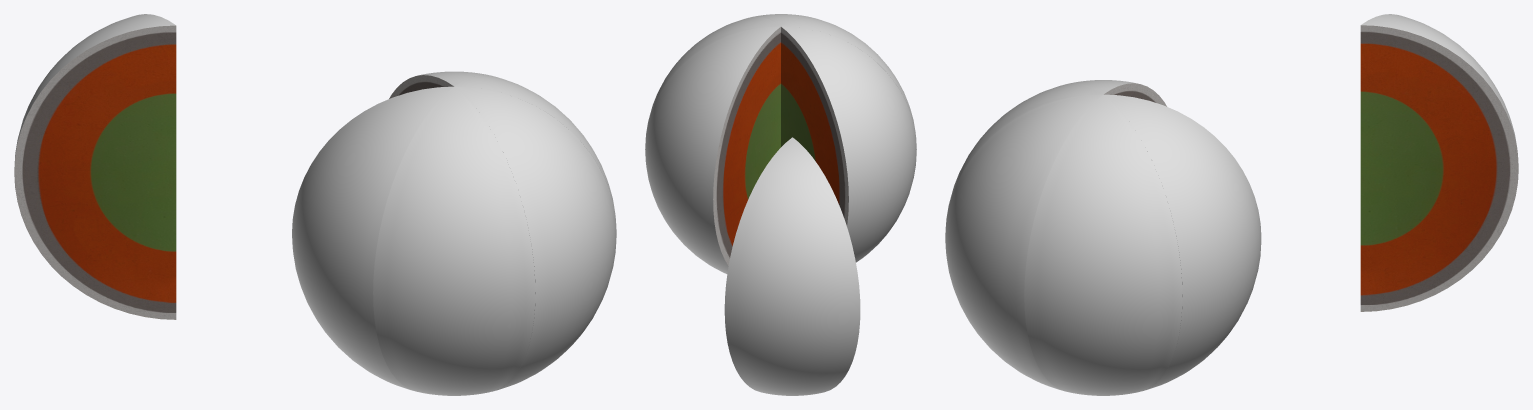
Rendered from HearingBook_r7d.gltf.
3 views of the same model, side by side, from view 1: azimuth 30°, elevation 25°; view 2: azimuth 150°, elevation 25°; view 3: azimuth 270°, elevation 25° (orthographic). The views are drawn at different scales.
Parts seen in each view (by area): view 1: Slice 3, Slice 1-Hearing, Slice 2-Shiny Shell, Slice 4, Slice 5, Slice 1-Shiny Shell, Slice 6-Hearing; view 2: Slice 1-Shiny Shell, Slice 6-Shiny Shell, Slice 2-Shiny Shell, Slice 6-Hearing, Slice 2-Hearing, Slice 3, Slice 5, Slice 4; view 3: Slice 5, Slice 1-Hearing, Slice 4, Slice 6-Shiny Shell, Slice 3, Slice 1-Shiny Shell, Slice 2-Hearing.
Part boxes in pixels (box(x1,y1,x2,y2)): Slice 3: box(373, 86, 535, 395); Slice 1-Hearing: box(14, 25, 176, 319); Slice 2-Shiny Shell: box(292, 86, 453, 390); Slice 4: box(455, 86, 616, 390); Slice 5: box(454, 75, 616, 243); Slice 1-Shiny Shell: box(14, 14, 175, 167); Slice 6-Hearing: box(389, 75, 453, 98); Slice 1-Shiny Shell: box(724, 137, 860, 395); Slice 6-Shiny Shell: box(645, 26, 780, 273); Slice 2-Shiny Shell: box(781, 26, 916, 262); Slice 6-Hearing: box(713, 27, 780, 265); Slice 2-Hearing: box(781, 27, 848, 225); Slice 3: box(781, 17, 916, 161); Slice 5: box(646, 17, 780, 134); Slice 4: box(751, 14, 811, 26); Slice 5: box(1024, 94, 1182, 395); Slice 1-Hearing: box(1360, 25, 1518, 311); Slice 4: box(945, 94, 1102, 391); Slice 6-Shiny Shell: box(1104, 94, 1261, 391); Slice 3: box(946, 83, 1102, 220); Slice 1-Shiny Shell: box(1361, 14, 1517, 150); Slice 2-Hearing: box(1104, 83, 1166, 106).
Size of the model in its own units: 290 by 200 by 363.
Materials: 2 (1 with a texture image).
